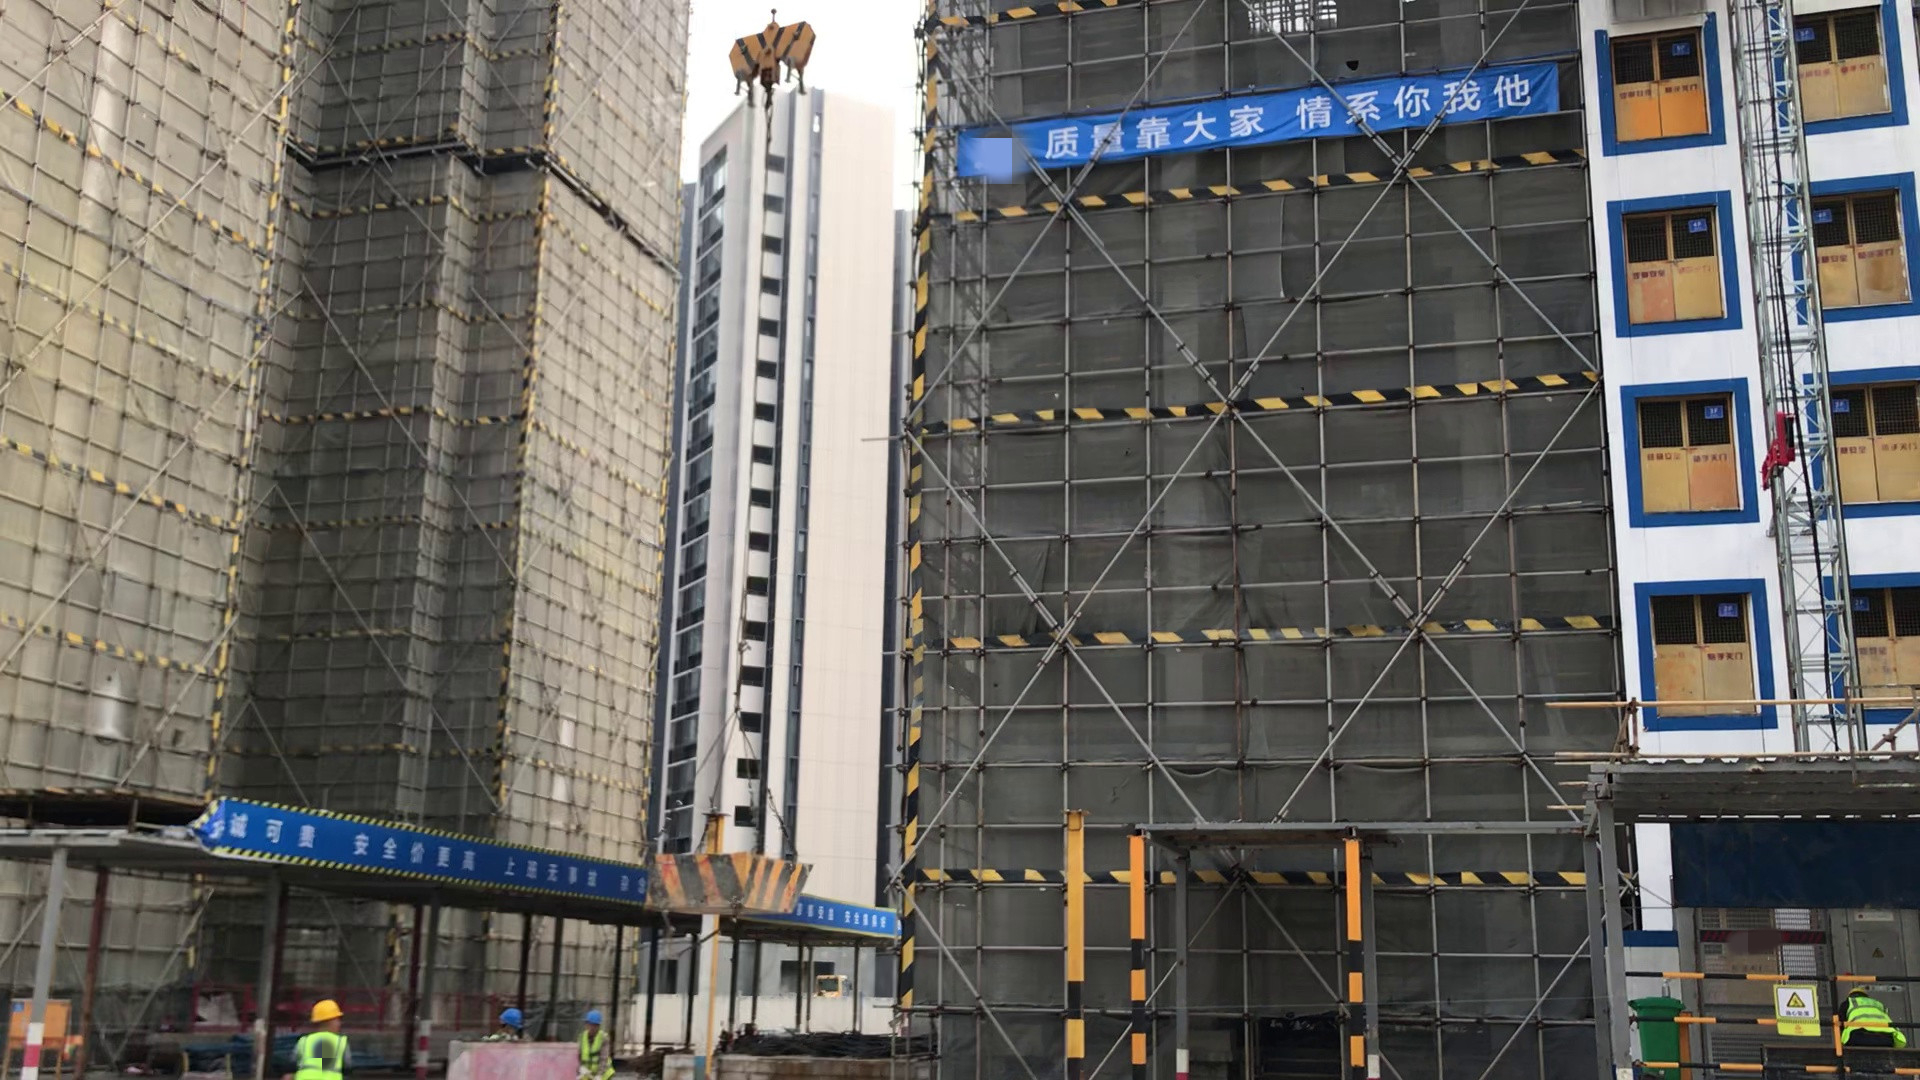ebox: (12, 999, 69, 1050)
helmet: (309, 1000, 342, 1022), (499, 1006, 522, 1027), (582, 1011, 600, 1026)
hook: (728, 20, 815, 107)
hopper: (639, 843, 824, 911)
person: (283, 999, 352, 1080), (1839, 988, 1905, 1050), (576, 1009, 617, 1080)
slogan: (206, 795, 898, 938), (1015, 60, 1561, 176)
vest: (1841, 995, 1905, 1051), (298, 1031, 347, 1080), (580, 1029, 616, 1080)
